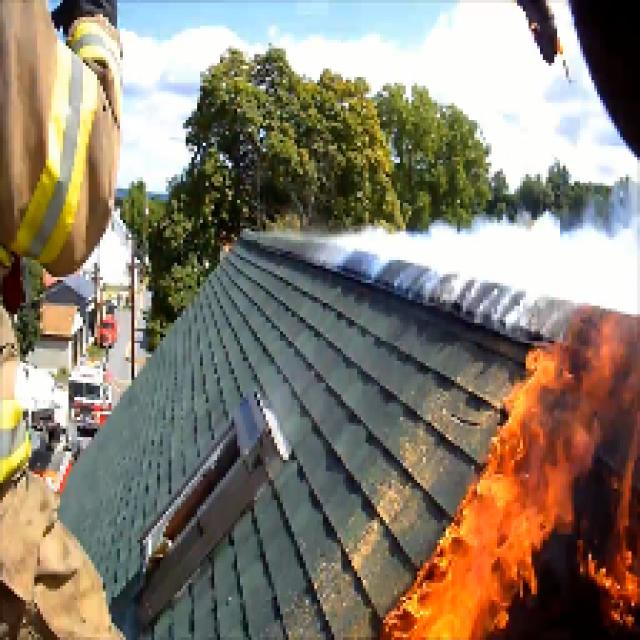fire: (528, 305, 640, 625), (407, 470, 521, 636)
smoke: (363, 217, 640, 298)
